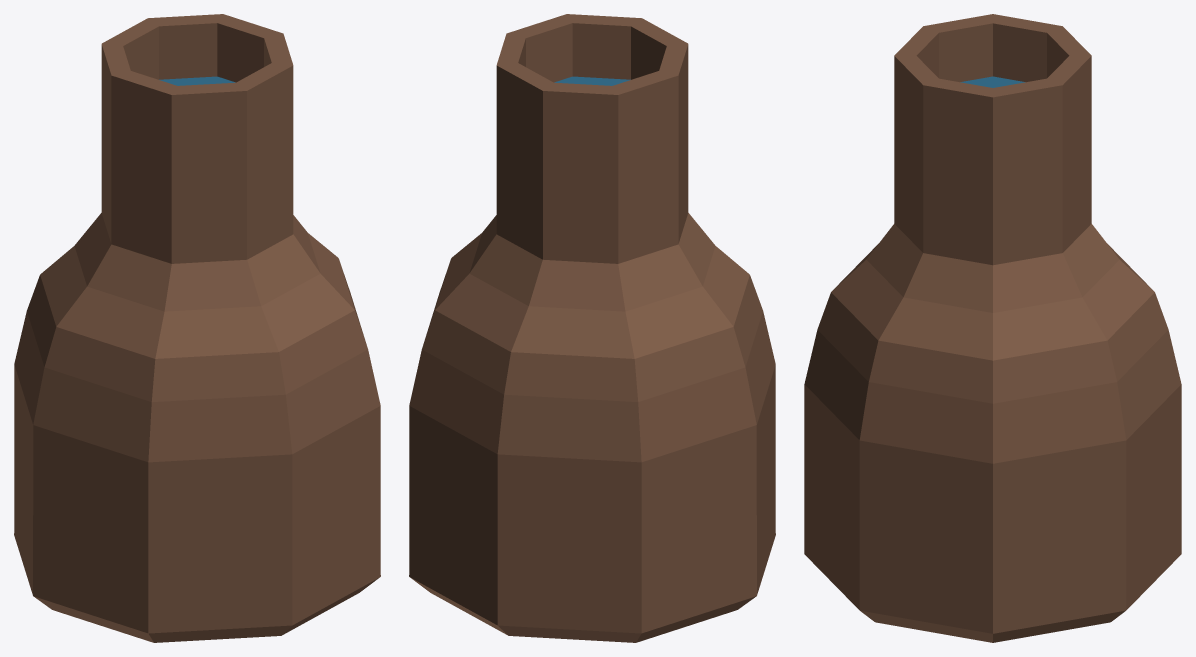
Rendered from Water Container 1.fbx.
3 views of the same model, side by side, from view 1: azimuth 30°, elevation 25°; view 2: azimuth 150°, elevation 25°; view 3: azimuth 270°, elevation 25° (orthographic).
Parts seen in each view (by area): view 1: Water Container; view 2: Water Container; view 3: Water Container.
Part boxes in pixels (x1,y1,x2,y2): Water Container: [14, 14, 380, 642]; Water Container: [409, 14, 775, 642]; Water Container: [804, 14, 1181, 642].
Bounding box in the file's own units: 94.74 × 143 × 94.74.
